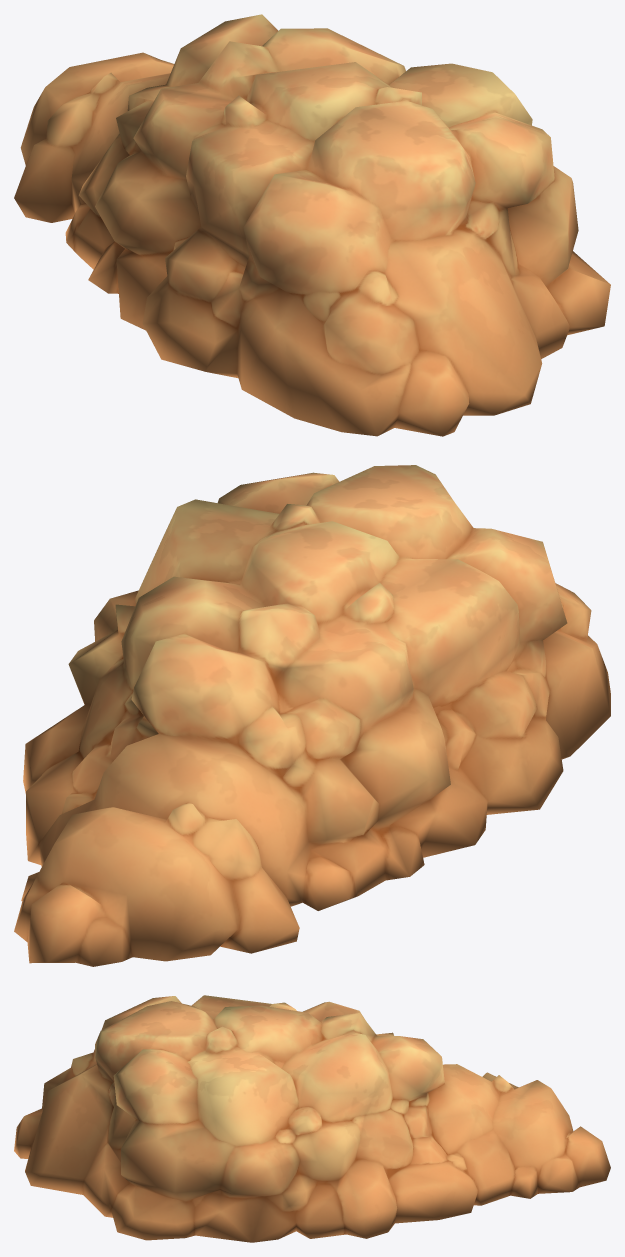
File: rock_3.fbx
3 renders of one model, top to bottom at view 1: azimuth 30°, elevation 25°; view 2: azimuth 150°, elevation 25°; view 3: azimuth 270°, elevation 25°, orthographic. The views are drawn at different scales.
Parts seen in each view (by area): view 1: Rock_3_LOD0; view 2: Rock_3_LOD0; view 3: Rock_3_LOD0.
Boxes of the visible parts, x1,y1,x2,y2 form: Rock_3_LOD0: [14, 14, 610, 436]; Rock_3_LOD0: [14, 465, 610, 966]; Rock_3_LOD0: [14, 995, 610, 1242].
Size of what is drawn, in the model's own units: 222 by 119 by 405.
